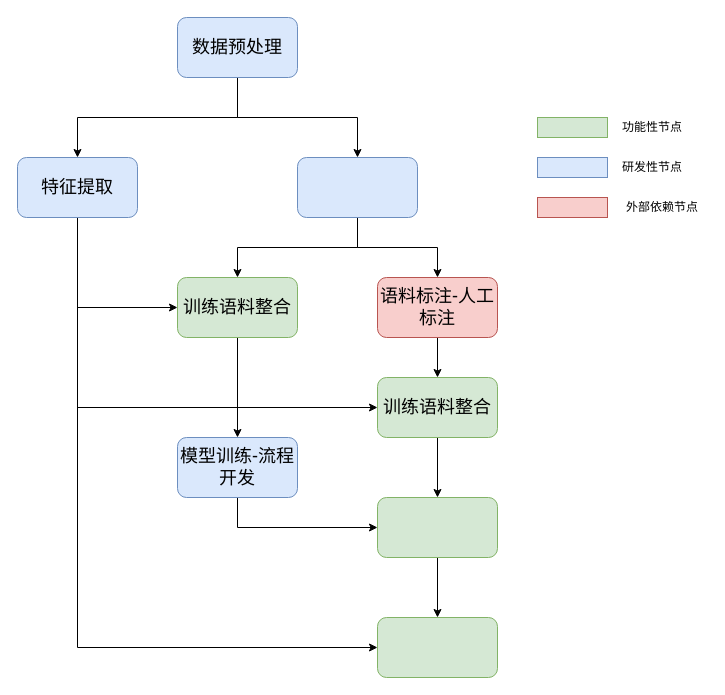
Some shapes in this 725 by 695 pixel diagram are drawn without their labels. The box of each missing label's shape, as (x1, y1, x2, y2) in pixels:
模型训练: (376, 496, 498, 558)
语料标注-机器预标注: (296, 156, 418, 218)
预测服务: (376, 616, 498, 678)
